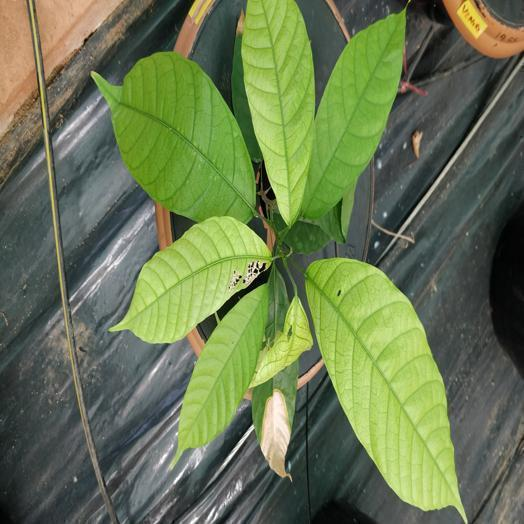Iron: (305, 258, 465, 521), (93, 51, 255, 222), (302, 10, 404, 218), (110, 216, 271, 342), (171, 284, 268, 466), (241, 0, 314, 225), (250, 266, 312, 478)
